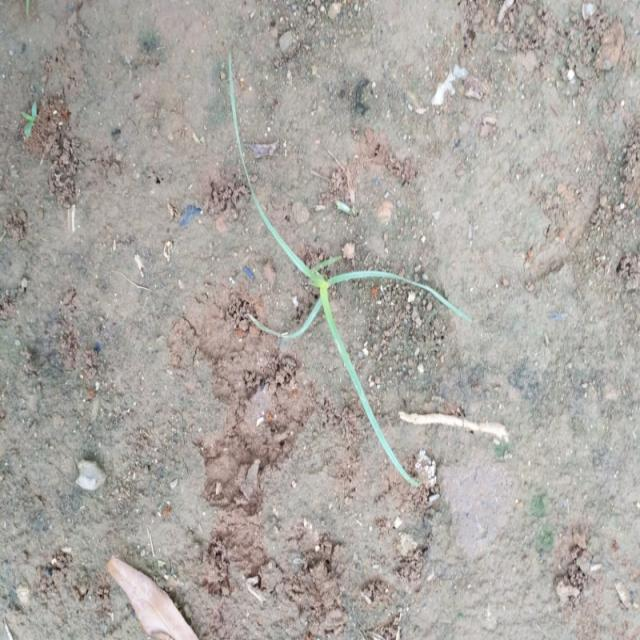sedge: (188, 75, 458, 482)
